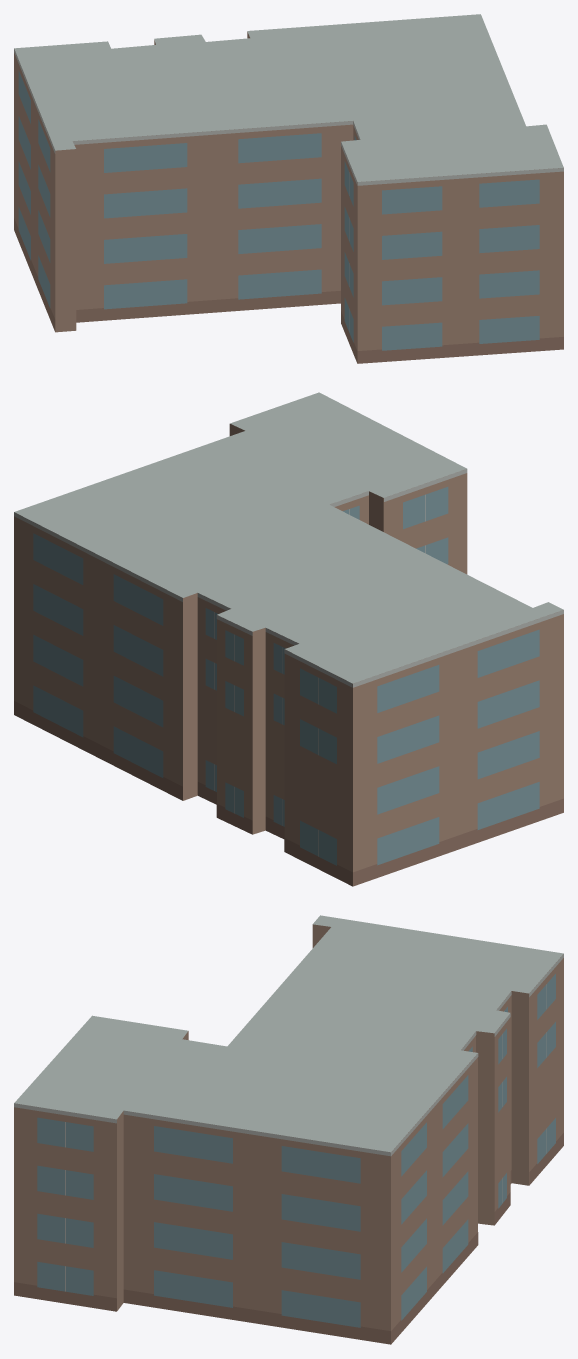
File: survey-upis-32493749.glb
The picture shows the model from 3 angles, top to bottom: view 1: azimuth 30°, elevation 25°; view 2: azimuth 150°, elevation 25°; view 3: azimuth 270°, elevation 25°; orthographic projection. The views are drawn at different scales.
Parts seen in each view (by area): view 1: survey-upis-32493749.tmp; view 2: survey-upis-32493749.tmp; view 3: survey-upis-32493749.tmp.
Boxes of the visible parts, x1,y1,x2,y2 form: survey-upis-32493749.tmp: (14,14,563,363); survey-upis-32493749.tmp: (14,392,563,886); survey-upis-32493749.tmp: (14,915,563,1344).
Bounding box in the file's own units: 30.93 × 11.7 × 30.33.
